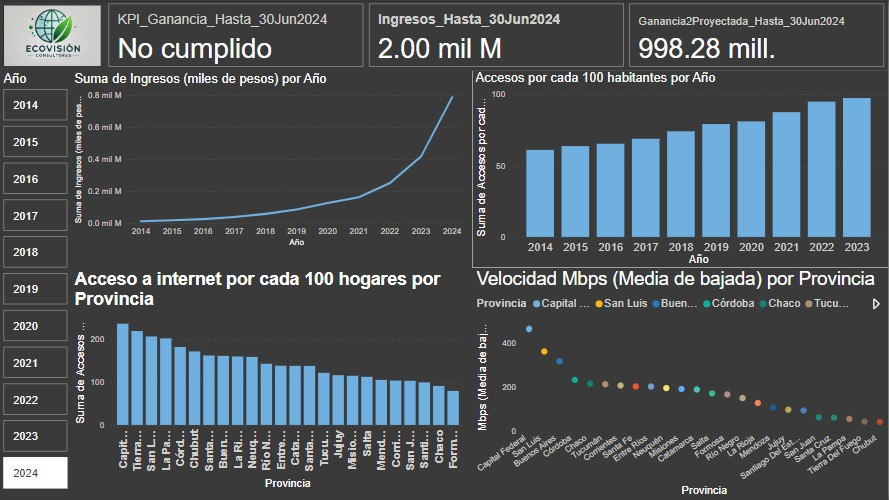

This screenshot's page, from the dashboard's own definition file:
{"tool":"powerbi","page":{"name":"Página 3","canvas":[1280,720],"ordinal":2},"visuals":[{"type":"lineChart","title":"Velocidad Mbps (Media de bajada) por Provincia ","fields":{"Series":["Velocidad % por prov  Internet.Provincia"],"Category":["Velocidad % por prov  Internet.Provincia"],"Y":["Sum(Velocidad % por prov  Internet.Mbps (Media de bajada))"]},"box":[680.5,385.9,599.5,334],"z":0},{"type":"advancedSlicerVisual","fields":{"Values":["tabla_calendario_con_provincias.Año"]},"box":[0,102.7,102.7,606.6],"z":1000},{"type":"image","box":[0,0,150,102.7],"z":2000},{"type":"clusteredColumnChart","title":"Acceso a internet por cada 100 hogares por Provincia","fields":{"Category":["Penetracion-hogares internet.Provincia"],"Y":["Sum(Penetracion-hogares internet.Accesos por cada 100 hogares)"]},"box":[101.7,386.6,571.8,321.5],"z":3000},{"type":"clusteredColumnChart","title":"Accesos por cada 100 habitantes por Año","fields":{"Category":["Penetracion-totales.Fecha.Variación.Jerarquía de fechas.Año"],"Y":["Sum(Penetracion-totales.Accesos por cada 100 hab)"]},"box":[679.9,101.1,600.1,285.4],"z":4000},{"type":"lineChart","fields":{"Category":["Ingresos  Internet.Fecha.Variación.Jerarquía de fechas.Año","Ingresos  Internet.Fecha.Variación.Jerarquía de fechas.Trimestre","Ingresos  Internet.Fecha.Variación.Jerarquía de fechas.Mes","Ingresos  Internet.Fecha.Variación.Jerarquía de fechas.Día"],"Y":["Sum(Ingresos  Internet.Ingresos (miles de pesos))"]},"box":[101.7,101.7,571.8,258.4],"z":5000},{"type":"cardVisual","fields":{"Data":["Ingresos_Calculado.KPI_Ganancia_Hasta_30Jun2024","Ingresos_Calculado.Ingresos_Hasta_30Jun2024","Ingresos_Calculado.Ganancia2Proyectada_Hasta_30Jun2024"]},"box":[150.6,0,1129.4,101.7],"z":6000}]}

Visuals, with their boxes in screenshot pixels (x1, y1, x2, y2), scaled from the page's 1280x720 canvas onto the 889x500 screenshot:
"Velocidad Mbps (Media de bajada) por Provincia " lineChart: [left=473, top=268, right=888, bottom=499]
advancedSlicerVisual - tabla_calendario_con_provincias.Año: [left=0, top=71, right=71, bottom=493]
image: [left=0, top=0, right=104, bottom=71]
"Acceso a internet por cada 100 hogares por Provincia" clusteredColumnChart: [left=71, top=268, right=468, bottom=492]
"Accesos por cada 100 habitantes por Año" clusteredColumnChart: [left=472, top=70, right=888, bottom=268]
lineChart - Ingresos  Internet.Fecha.Variación.Jerarquía de fechas.Año x Ingresos  Internet.Fecha.Variación.Jerarquía de fechas.Trimestre: [left=71, top=71, right=468, bottom=250]
cardVisual - Ingresos_Calculado.KPI_Ganancia_Hasta_30Jun2024 x Ingresos_Calculado.Ingresos_Hasta_30Jun2024: [left=105, top=0, right=888, bottom=71]
